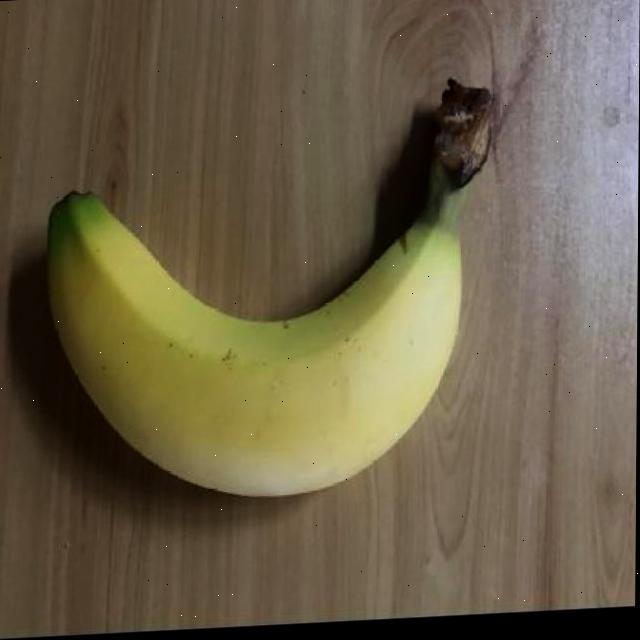banana: (43, 70, 499, 516)
